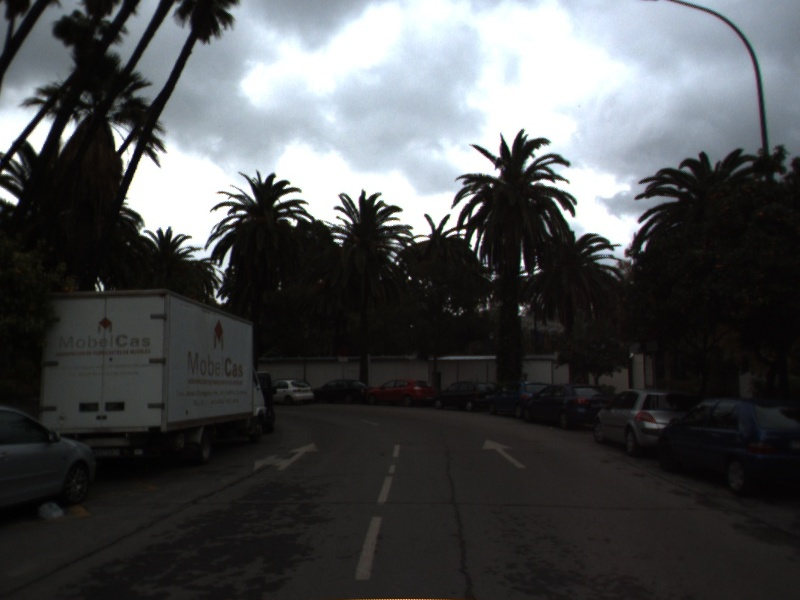STRAIGHT: (480, 437, 529, 470)
STRAIGHT_LEFT: (251, 440, 321, 474)
